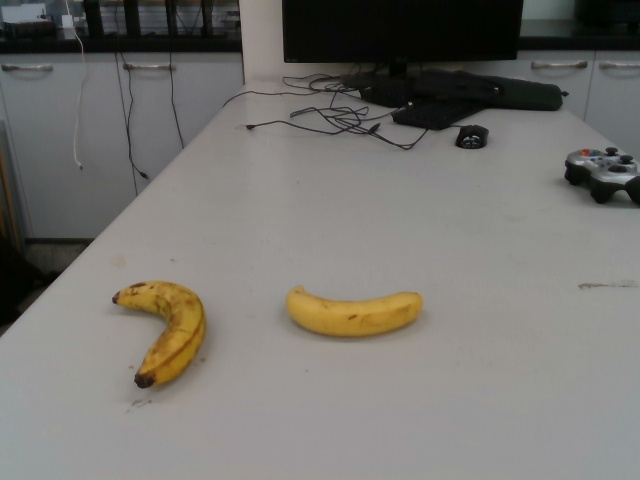banana: (110, 279, 207, 389), (283, 285, 422, 339)
